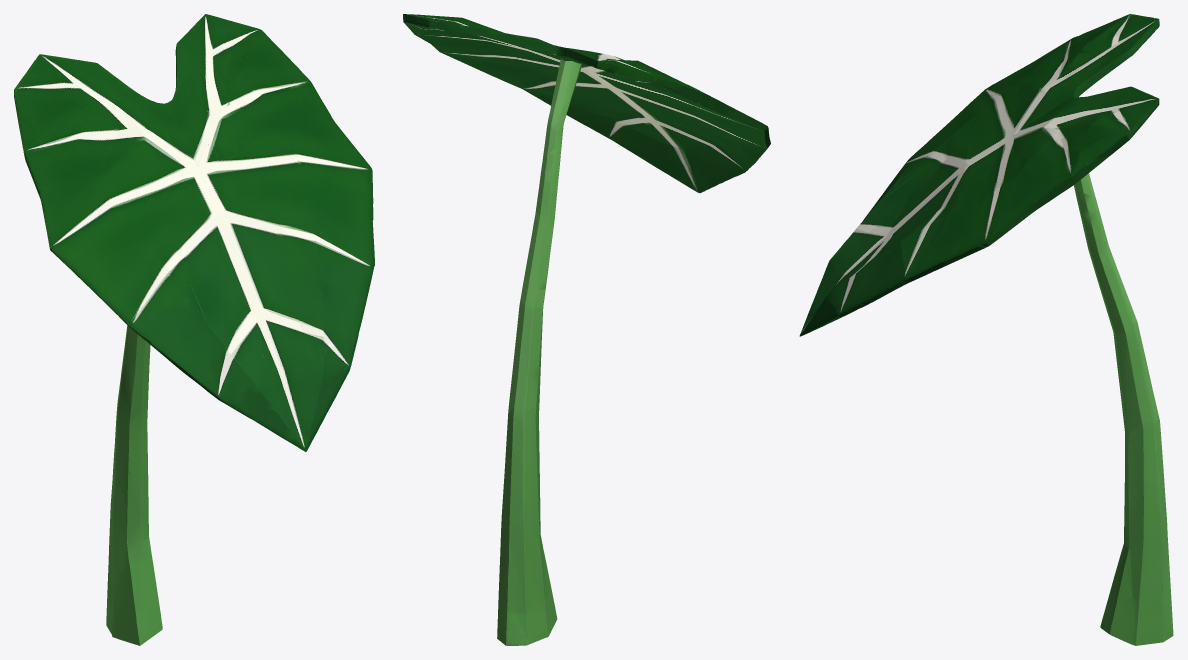
File: al_leaf_young.glb
The picture shows the model from 3 angles, left to right: view 1: azimuth 30°, elevation 25°; view 2: azimuth 150°, elevation 25°; view 3: azimuth 270°, elevation 25°; orthographic projection. The views are drawn at different scales.
Bounding box in the file's own units: 1.09 × 1.9 × 1.12.
1 material, 1 textured.
